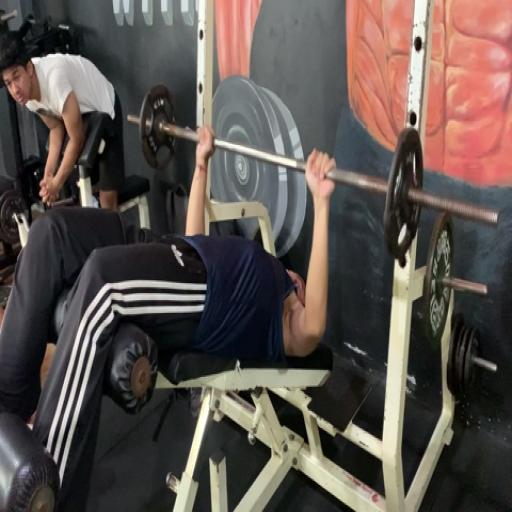exercise: (0, 122, 339, 511), (0, 30, 128, 215)
